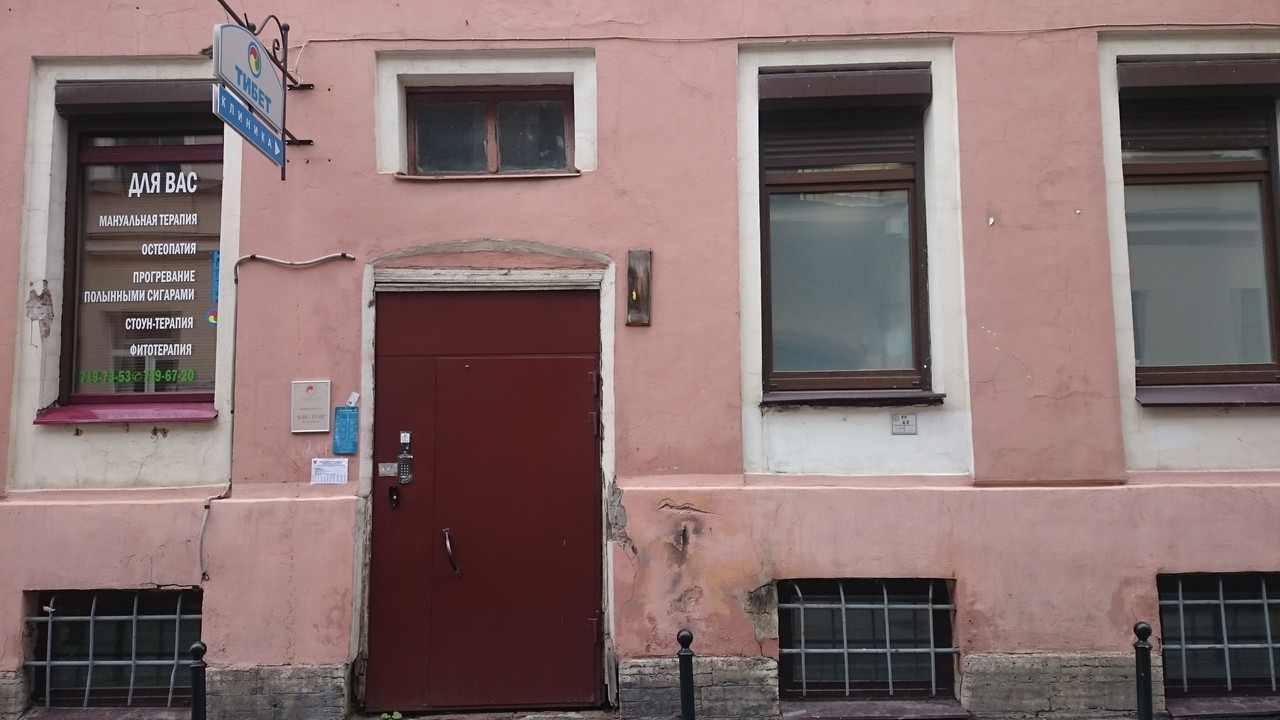cantilever: (205, 1, 318, 183)
door: (435, 357, 599, 712)
window: (54, 97, 221, 402), (1124, 153, 1278, 386), (762, 163, 918, 387), (406, 85, 572, 186)
